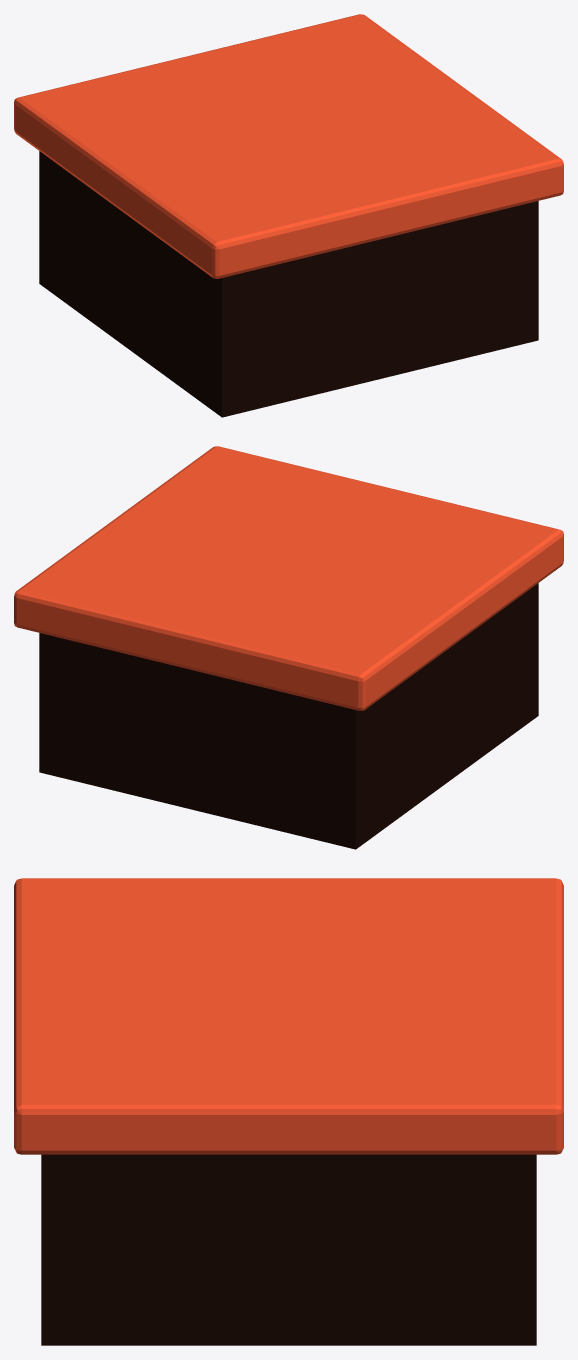
The model's file is Basic_Cabinet_No_Handle.FBX.
The picture shows the model from 3 angles, top to bottom: view 1: azimuth 30°, elevation 25°; view 2: azimuth 150°, elevation 25°; view 3: azimuth 270°, elevation 25°; orthographic projection. The views are drawn at different scales.
Parts seen in each view (by area): view 1: Basic_Cabinet_No_Handle; view 2: Basic_Cabinet_No_Handle; view 3: Basic_Cabinet_No_Handle.
Part boxes in pixels (bbox=[...]): Basic_Cabinet_No_Handle: bbox=[14, 14, 563, 417]; Basic_Cabinet_No_Handle: bbox=[14, 446, 563, 849]; Basic_Cabinet_No_Handle: bbox=[14, 878, 563, 1345].
Bounding box in the file's own units: 100 × 100 × 50.
